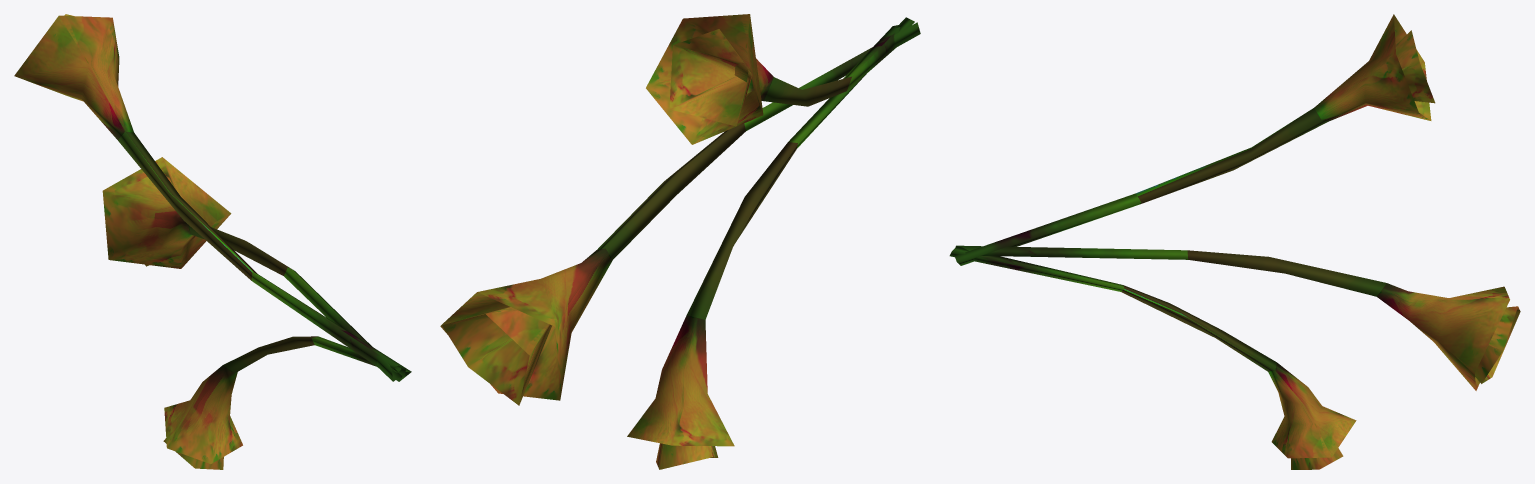
Rendered from FlowersR_01.fbx.
3 renders of one model, left to right at view 1: azimuth 30°, elevation 25°; view 2: azimuth 150°, elevation 25°; view 3: azimuth 270°, elevation 25°, orthographic. The views are drawn at different scales.
Parts seen in each view (by area): view 1: FlowersR_01; view 2: FlowersR_01; view 3: FlowersR_01.
Part boxes in pixels (left/top/right/bottom): FlowersR_01: left=14, top=14, right=411, bottom=469; FlowersR_01: left=440, top=14, right=920, bottom=469; FlowersR_01: left=949, top=14, right=1520, bottom=469.
Size of the model in its own units: 55.32 by 95.21 by 121.
